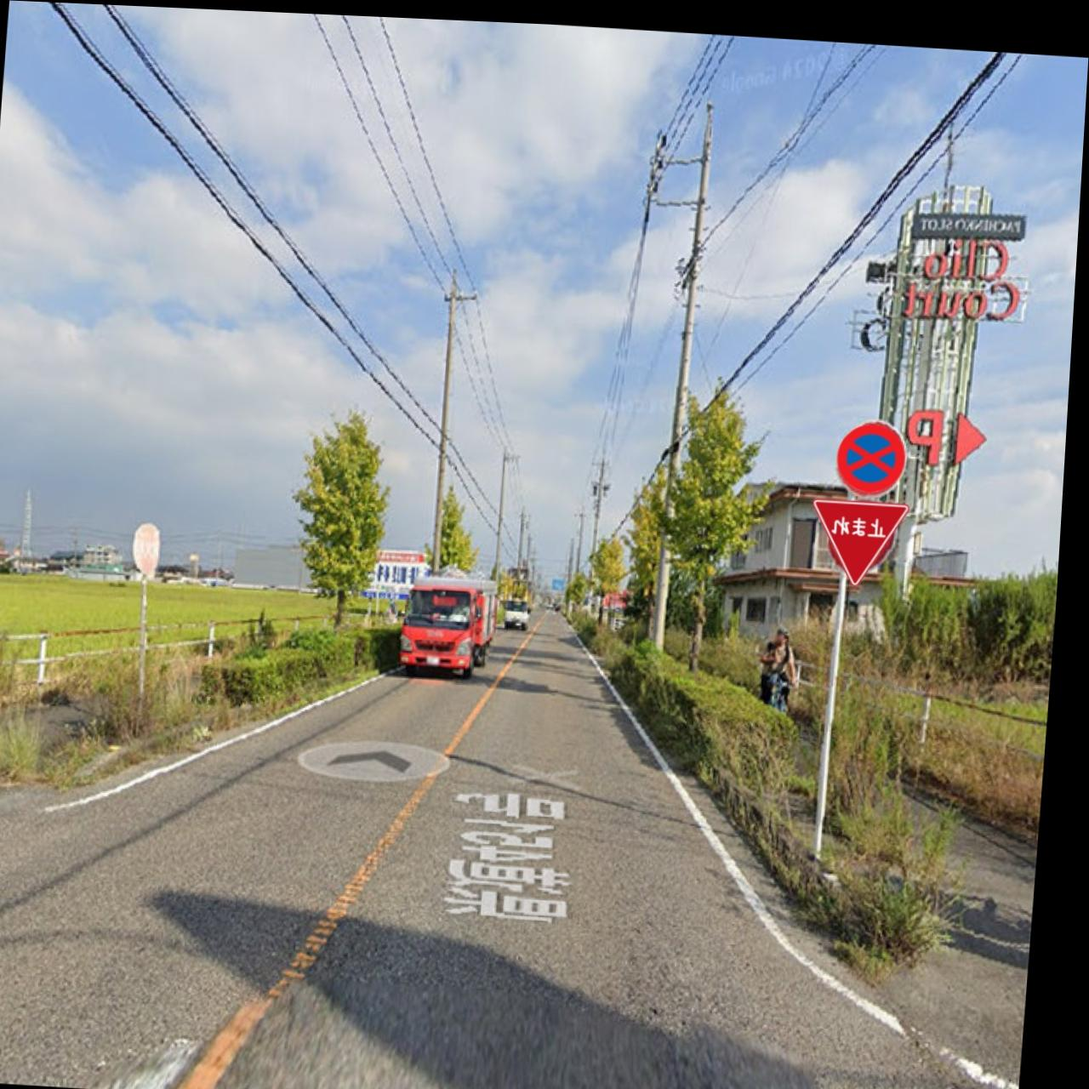stop_sign: (834, 422, 909, 496)
